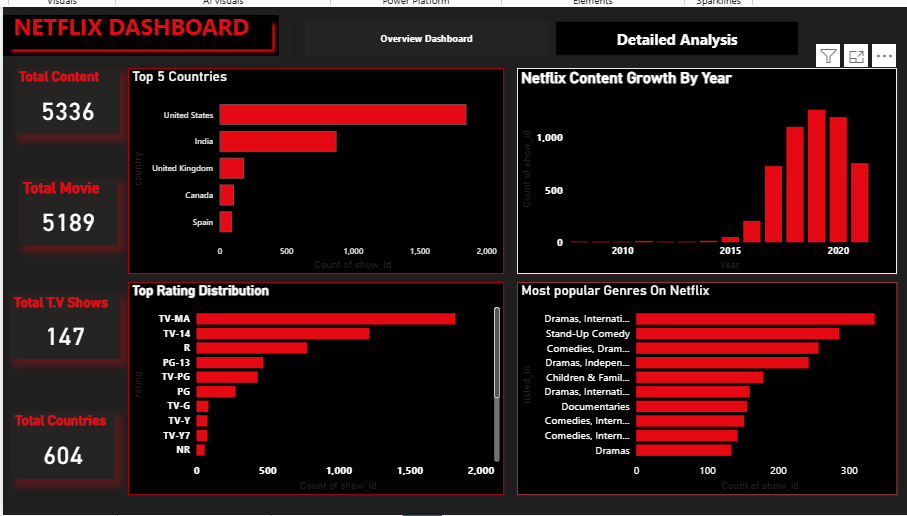

This screenshot's page, from the dashboard's own definition file:
{"tool":"powerbi","page":{"name":"Overview Dashboard ","canvas":[1280,720],"ordinal":0},"visuals":[{"type":"textbox","box":[9.9,0,367.1,53.9],"z":0},{"type":"shape","box":[0,11.3,391.2,58.1],"z":1000},{"type":"textbox","box":[9.9,0,447.9,150.2],"z":2000},{"type":"card","title":"Total Content","fields":{"Values":["CountNonNull(netflix_titles.show_id)"]},"box":[17,86.5,148.8,93.5],"z":3000},{"type":"card","title":"Total Movie","fields":{"Values":["CountNonNull(netflix_titles.type)"]},"box":[22.7,243.8,138.9,93.5],"z":4000},{"type":"card","title":"Total T.V Shows","fields":{"Values":["CountNonNull(netflix_titles.type)"]},"box":[9.9,406.8,155.9,92.1],"z":5000},{"type":"card","title":"Total Countries","fields":{"Values":["Count(netflix_titles.country)"]},"box":[11.3,574,147.4,95],"z":6000},{"type":"barChart","title":"Top 5 Countries ","fields":{"Category":["netflix_titles.country"],"Y":["CountNonNull(netflix_titles.show_id)"]},"box":[177,86,533,292],"z":7000},{"type":"clusteredBarChart","title":"Top Rating Distribution","fields":{"Category":["netflix_titles.rating"],"Y":["CountNonNull(netflix_titles.show_id)"]},"box":[177.2,389.8,532.9,301.9],"z":8000},{"type":"columnChart","title":"Netflix Content Growth By Year","fields":{"Category":["netflix_titles.date_added.Variation.Date Hierarchy.Year"],"Y":["CountNonNull(netflix_titles.show_id)"]},"box":[728.5,86.5,538.6,292],"z":9000},{"type":"barChart","title":"Most popular Genres On Netflix","fields":{"Category":["netflix_titles.listed_in"],"Y":["CountNonNull(netflix_titles.show_id)"]},"box":[729,390,539,302],"z":10000},{"type":"pageNavigator","box":[428,19.8,701.6,49.6],"z":11000}]}

Visuals, with their boxes on the page's 1280x720 design canvas (x1, y1, x2, y2). These are canvas units, not pixel positions in the 907x516 screenshot, which may show the page scaled, cropped or inside an application window:
textbox: (x1=10, y1=0, x2=377, y2=54)
shape: (x1=0, y1=11, x2=391, y2=69)
textbox: (x1=10, y1=0, x2=458, y2=150)
"Total Content" card: (x1=17, y1=86, x2=166, y2=180)
"Total Movie" card: (x1=23, y1=244, x2=162, y2=337)
"Total T.V Shows" card: (x1=10, y1=407, x2=166, y2=499)
"Total Countries" card: (x1=11, y1=574, x2=159, y2=669)
"Top 5 Countries " barChart: (x1=177, y1=86, x2=710, y2=378)
"Top Rating Distribution" clusteredBarChart: (x1=177, y1=390, x2=710, y2=692)
"Netflix Content Growth By Year" columnChart: (x1=728, y1=86, x2=1267, y2=378)
"Most popular Genres On Netflix" barChart: (x1=729, y1=390, x2=1268, y2=692)
pageNavigator: (x1=428, y1=20, x2=1130, y2=69)
